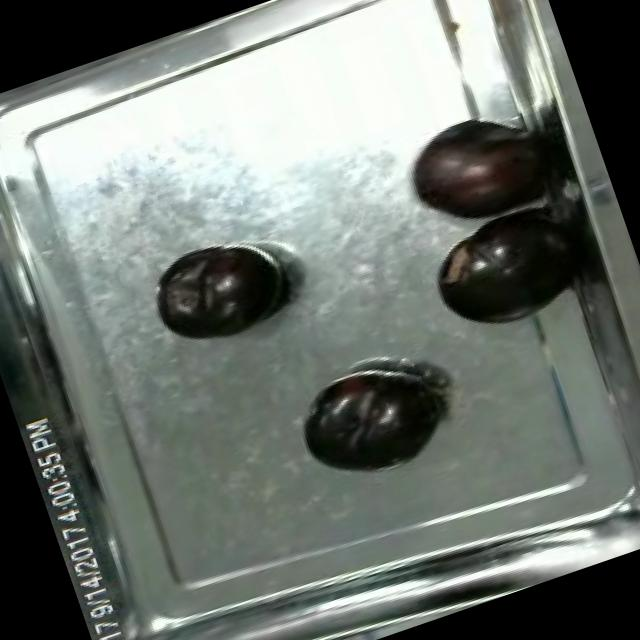Fruit: (414, 195, 592, 351), (282, 344, 461, 496), (390, 95, 560, 242), (140, 227, 302, 361)
